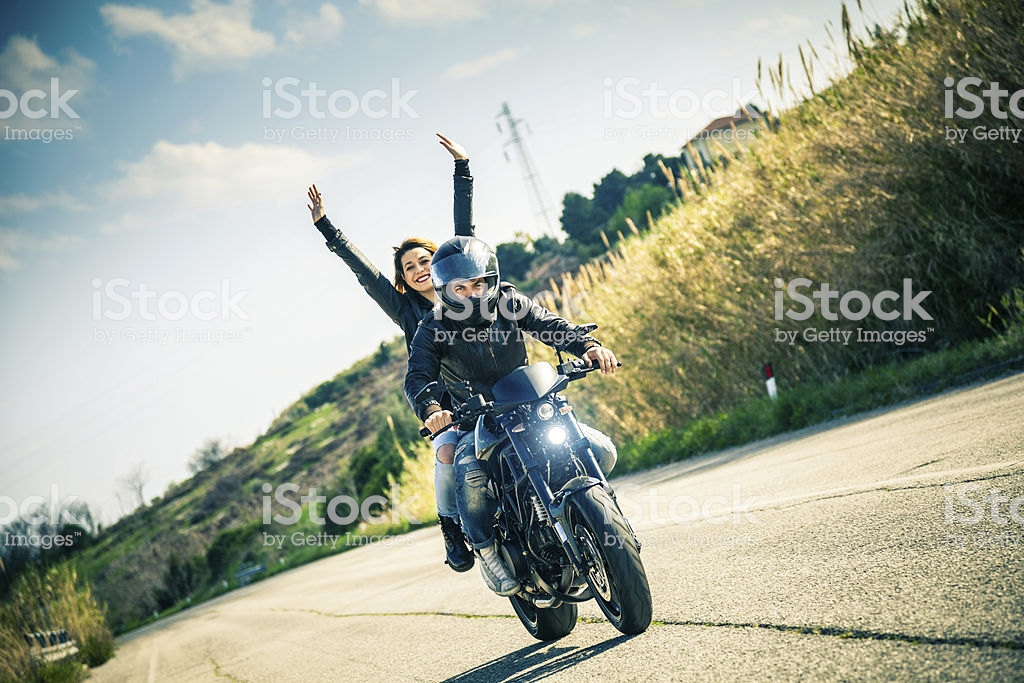helmet: (422, 242, 513, 327)
